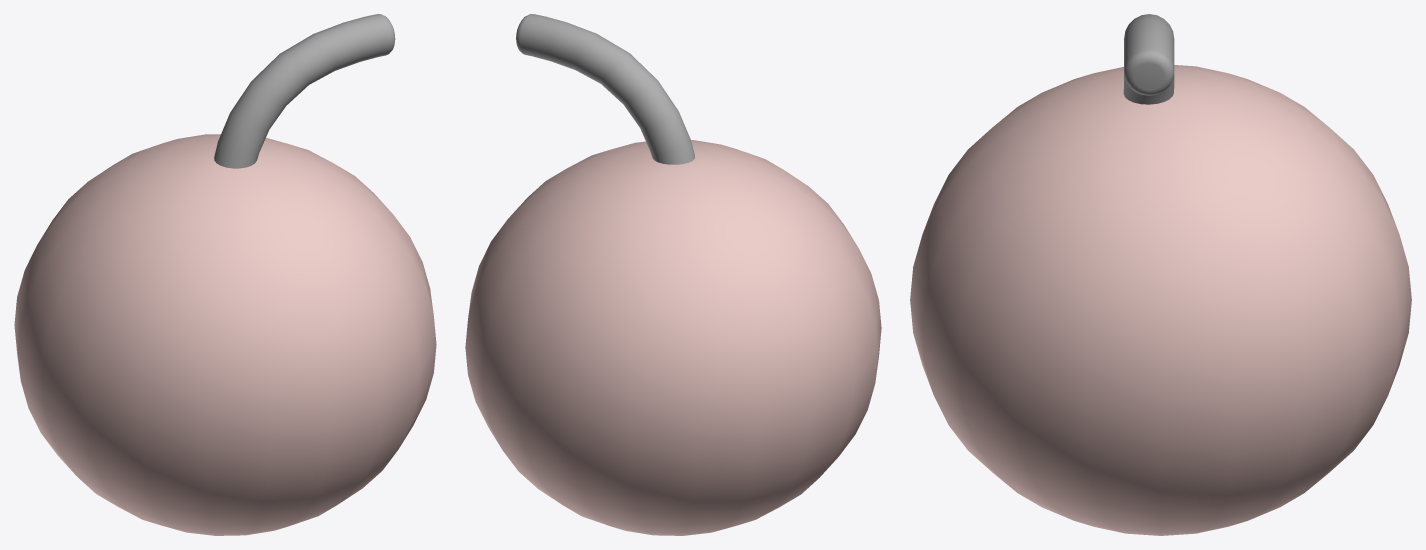
Rendered from HandB.fbx.
3 views of the same model, side by side, from view 1: azimuth 30°, elevation 25°; view 2: azimuth 150°, elevation 25°; view 3: azimuth 270°, elevation 25° (orthographic). The views are drawn at different scales.
Visible parts, largest first — view 1: pCylinder87; view 2: pCylinder87; view 3: pCylinder87.
Part boxes in pixels (x1,y1,x2,y2): pCylinder87: [14, 14, 436, 535]; pCylinder87: [465, 14, 881, 535]; pCylinder87: [910, 14, 1411, 535].
Size of the model in its own units: 143 by 174 by 145.
